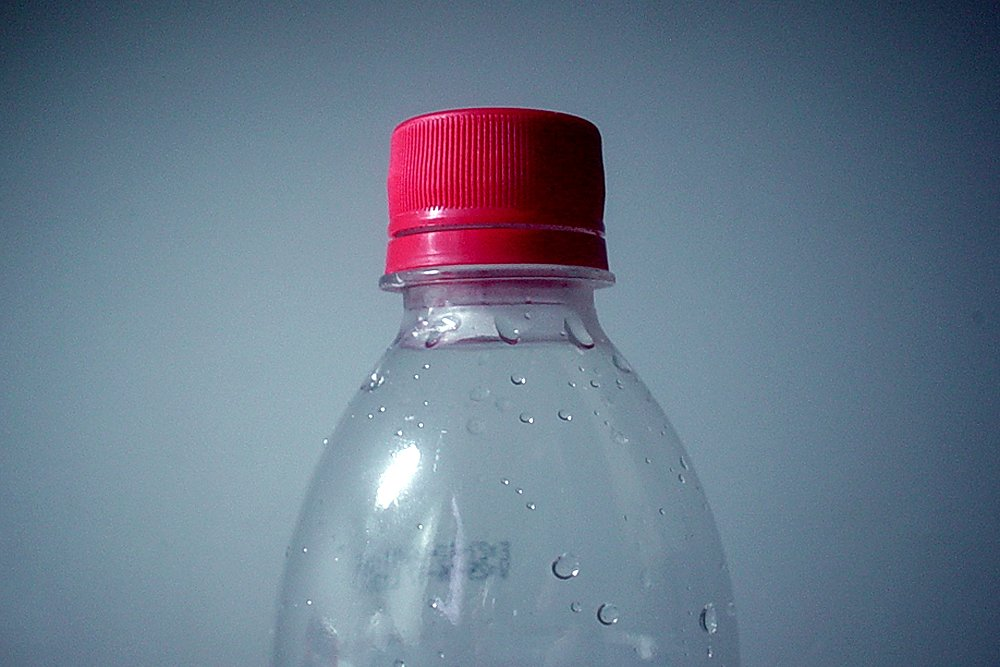plastic_bottle: (250, 92, 760, 667)
